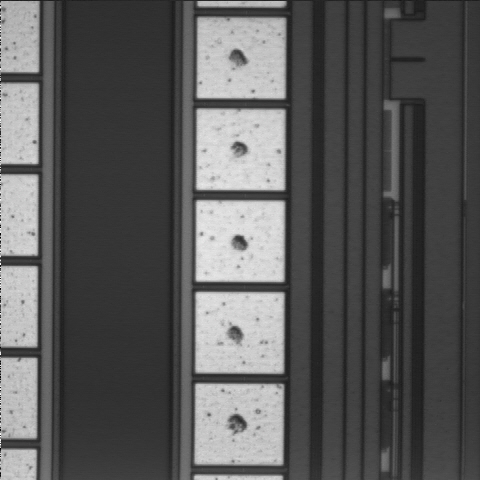pad: (197, 109, 285, 190), (196, 201, 284, 282), (196, 292, 284, 373), (197, 18, 285, 98), (195, 384, 283, 464)
